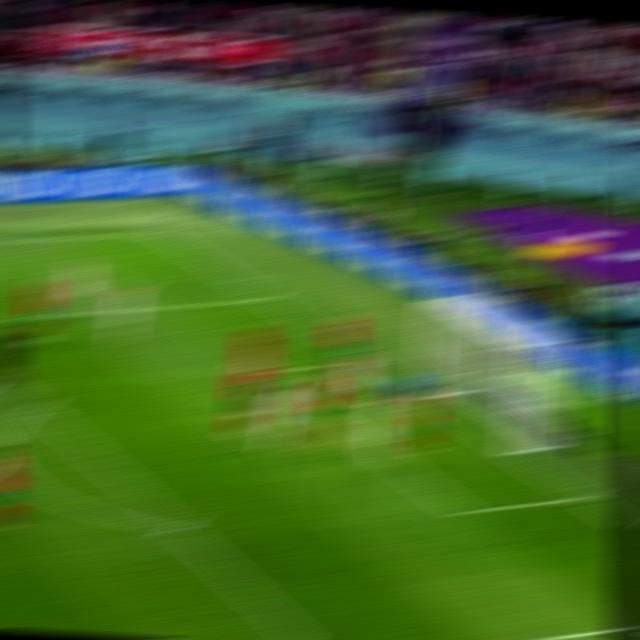bigarea_top_outter: (250, 287, 283, 307)
bottom_arc_area_intersection: (159, 512, 196, 541)
corner: (139, 224, 177, 240)
smallarea_bottom_inner: (443, 492, 484, 528)
smallarea_bottom_outter: (564, 482, 602, 510)
smallarea_top_inner: (249, 361, 279, 381)
smallarea_top_outter: (351, 351, 385, 370)
top_arc_area_intersection: (22, 396, 56, 416)
